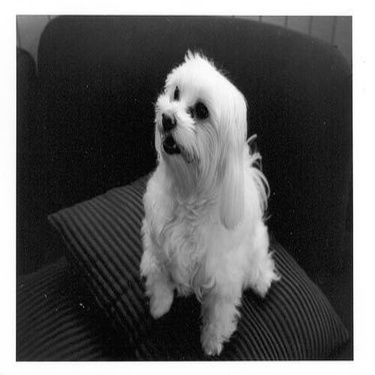dog: (123, 40, 283, 354)
